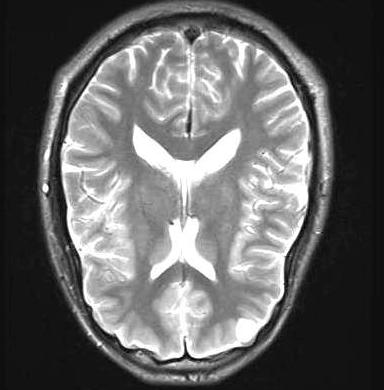Normal_Brain: (1, 1, 384, 390)
